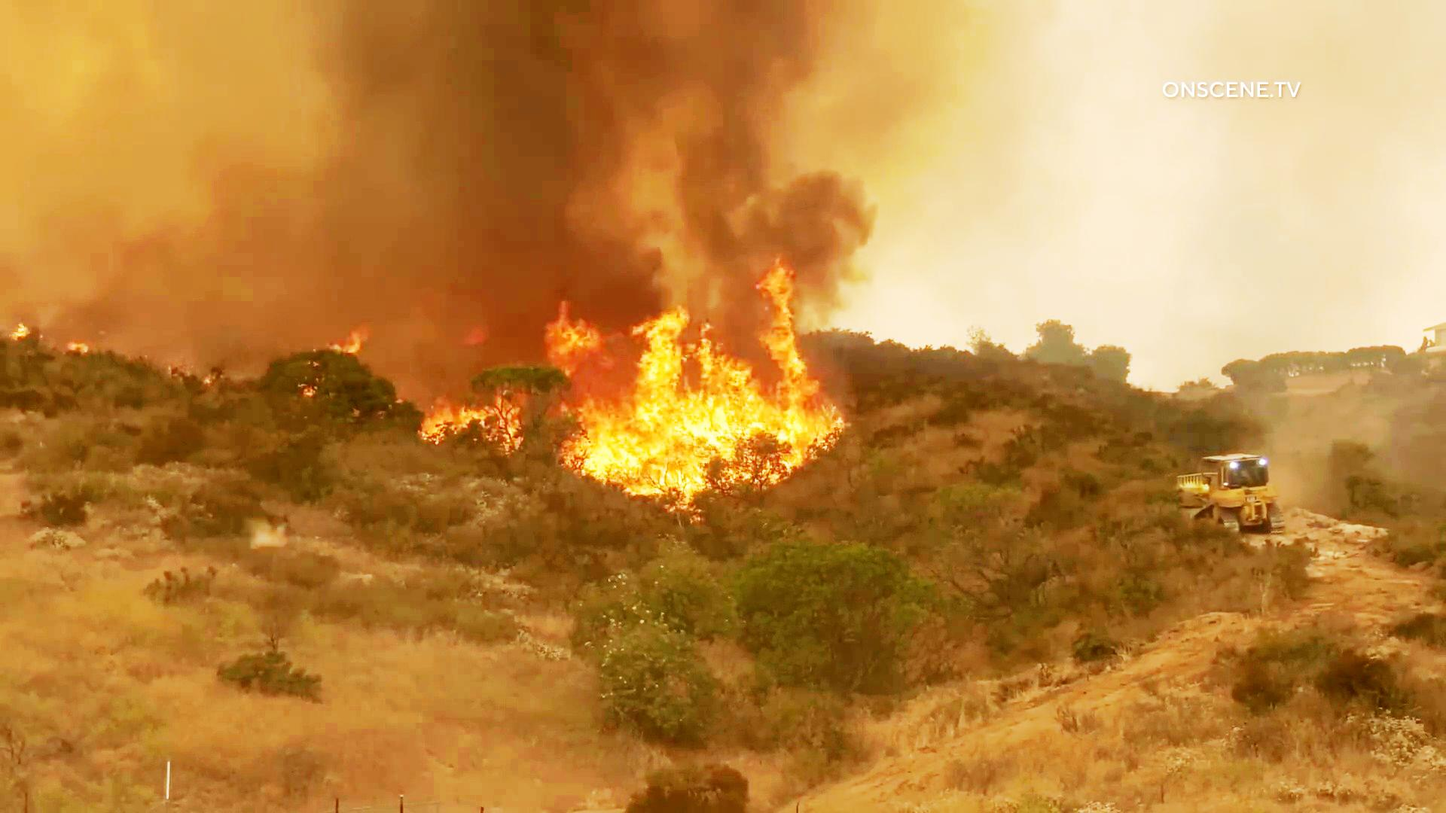fire: (545, 288, 844, 506)
smoke: (404, 44, 930, 262)
